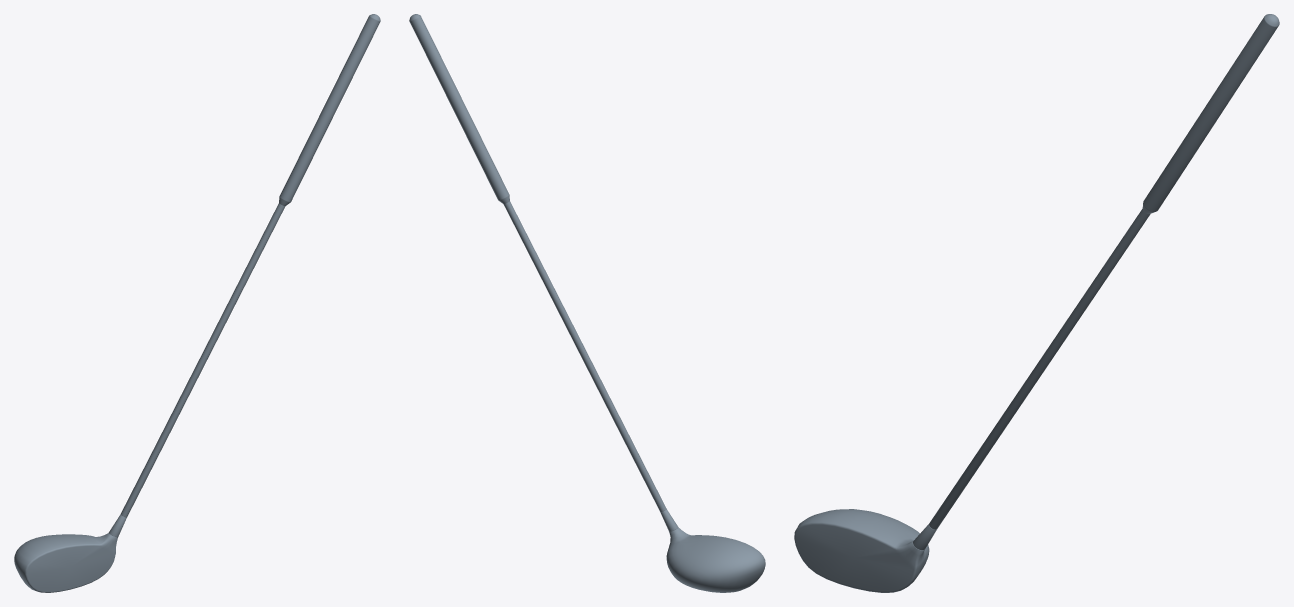
The model's file is golfvr-driver.glb.
The picture shows the model from 3 angles, left to right: view 1: azimuth 30°, elevation 25°; view 2: azimuth 150°, elevation 25°; view 3: azimuth 330°, elevation 25°; orthographic projection. The views are drawn at different scales.
Visible parts, largest first — view 1: Object03; view 2: Object03; view 3: Object03.
Part boxes in pixels (<box>): Object03: <box>14,14,380,592</box>; Object03: <box>409,14,765,592</box>; Object03: <box>794,14,1279,592</box>.
Size of the model in its own units: 3 by 4 by 0.4425.
